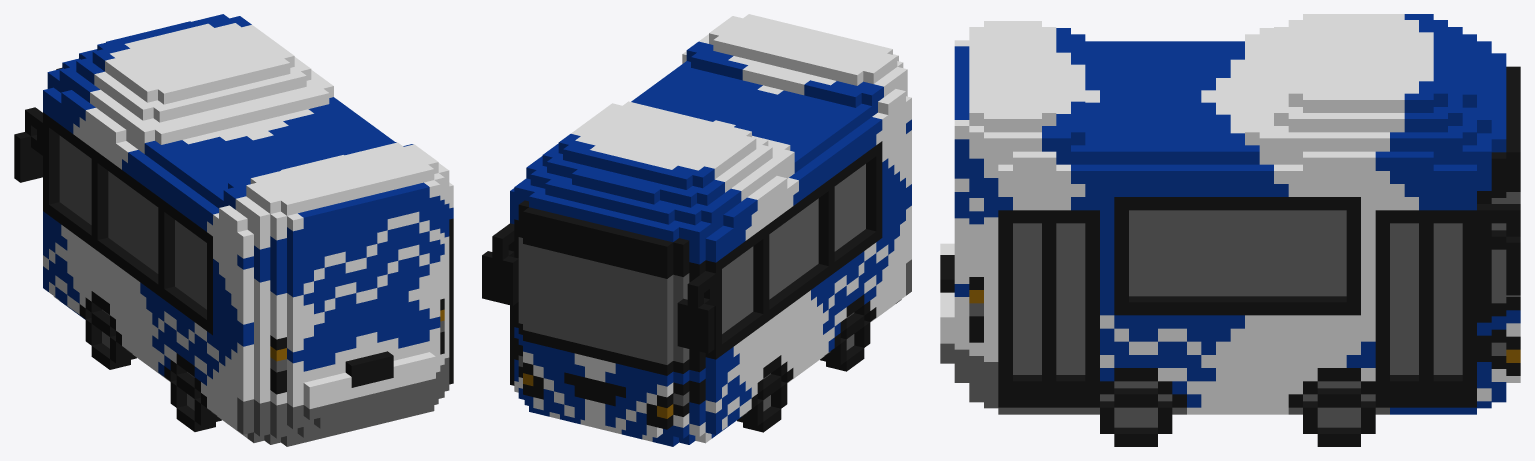
The model's file is bus.gltf.
The picture shows the model from 3 angles, left to right: view 1: azimuth 30°, elevation 25°; view 2: azimuth 150°, elevation 25°; view 3: azimuth 270°, elevation 25°; orthographic projection. The views are drawn at different scales.
Parts seen in each view (by area): view 1: matarobus.001; view 2: matarobus.001; view 3: matarobus.001.
Part boxes in pixels (box(x1,y1,x2,y2)): matarobus.001: box(14, 14, 453, 446); matarobus.001: box(482, 14, 911, 446); matarobus.001: box(940, 14, 1520, 446).
Size of the model in its own units: 2.2 by 2.5 by 4.
Materials: 1 (1 with a texture image).
